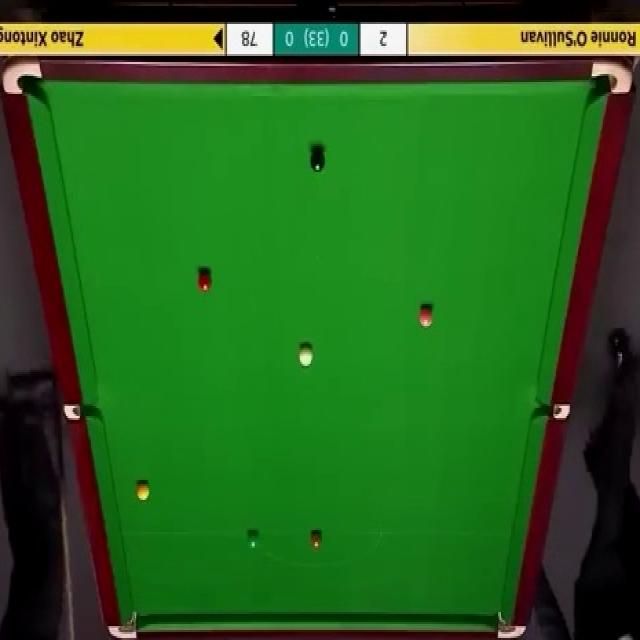pocket: (590, 58, 633, 98), (3, 57, 43, 98), (108, 608, 141, 640), (497, 612, 526, 638), (64, 403, 100, 422), (535, 402, 573, 418)
